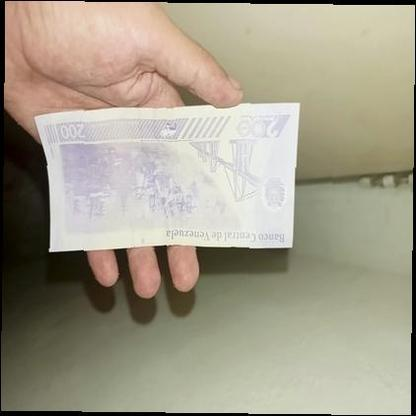two_hundred-back-vef: (32, 102, 299, 253)
